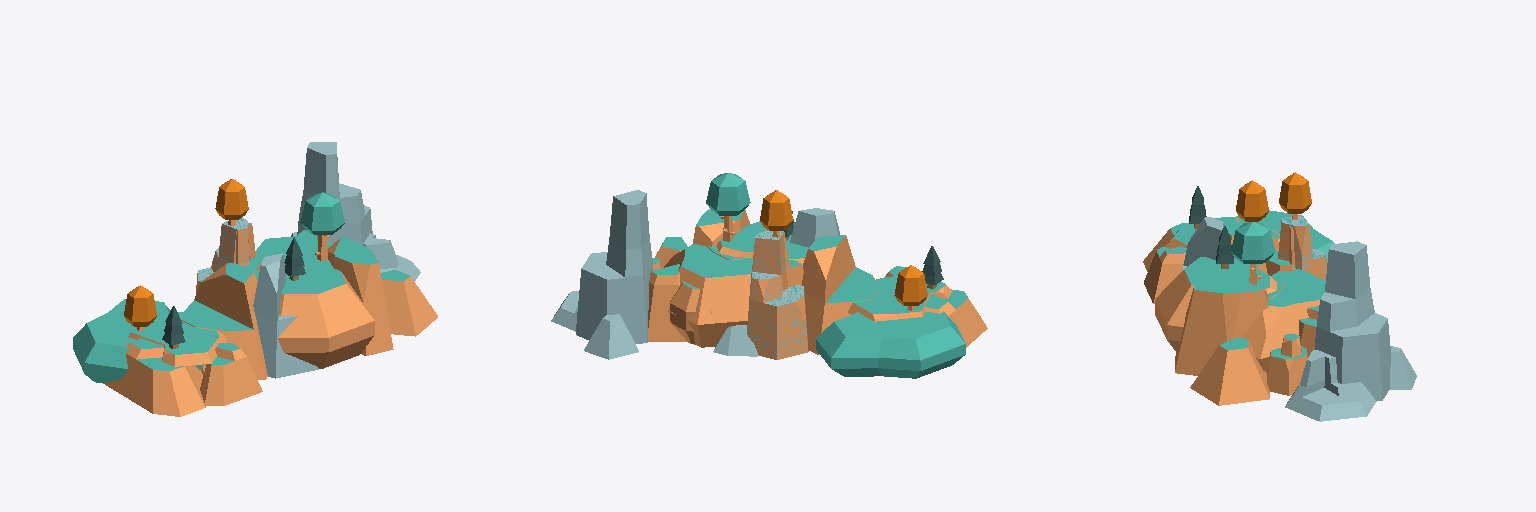
File: StoneModel1.obj
The picture shows the model from 3 angles: view 1: azimuth 30°, elevation 25°; view 2: azimuth 150°, elevation 25°; view 3: azimuth 270°, elevation 25°; orthographic projection.
Bounding box in the file's own units: 28.72 × 11.25 × 18.48.